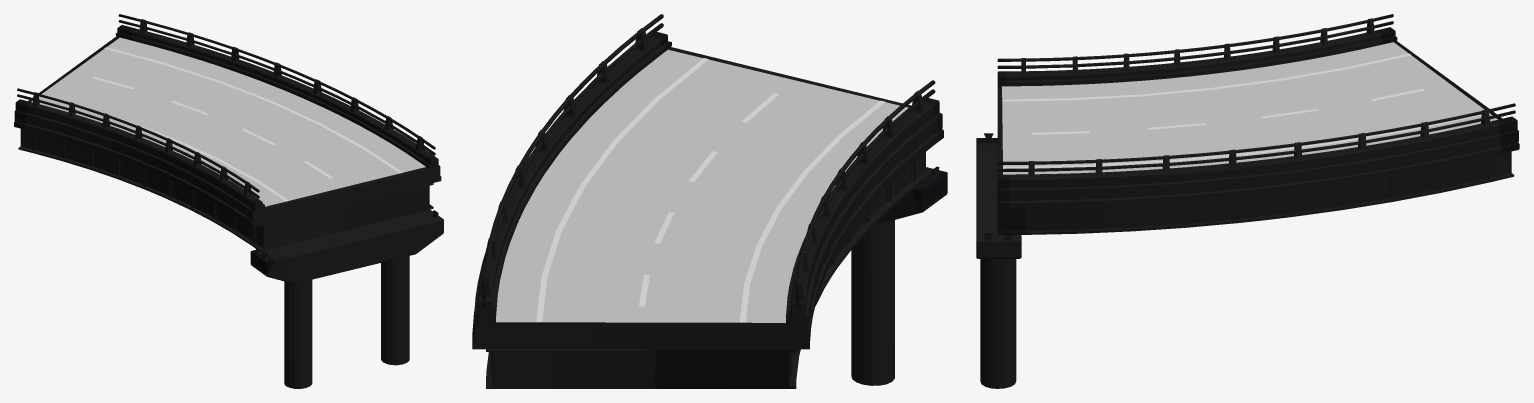
Rendered from Highway_Segment01.fbx.
3 renders of one model, left to right at view 1: azimuth 30°, elevation 25°; view 2: azimuth 150°, elevation 25°; view 3: azimuth 270°, elevation 25°, orthographic. The views are drawn at different scales.
Visible parts, largest first — view 1: SM_City_Highway_Segment_01b.mo; view 2: SM_City_Highway_Segment_01b.mo; view 3: SM_City_Highway_Segment_01b.mo.
Boxes of the visible parts, left/top/right/bottom form: SM_City_Highway_Segment_01b.mo: left=14, top=14, right=443, bottom=388; SM_City_Highway_Segment_01b.mo: left=472, top=14, right=947, bottom=388; SM_City_Highway_Segment_01b.mo: left=976, top=14, right=1519, bottom=388.
Bounding box in the file's own units: 1537 × 1123 × 2272.
